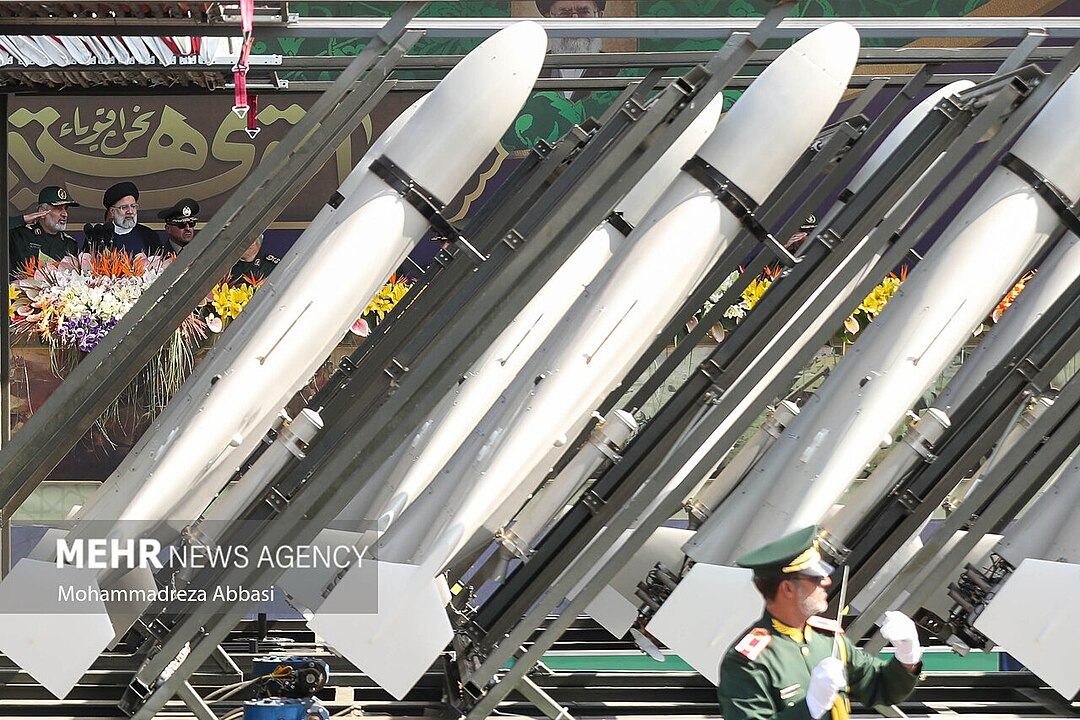shahed: (304, 21, 859, 700), (6, 21, 547, 682)
